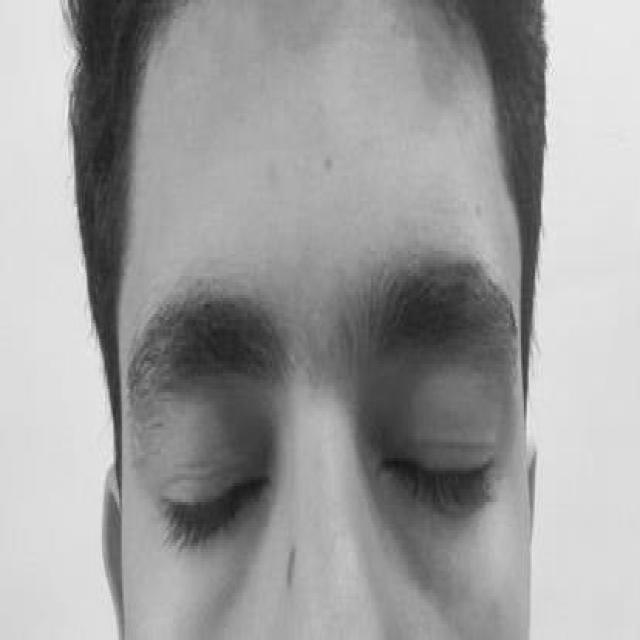real: (142, 368, 516, 571)
